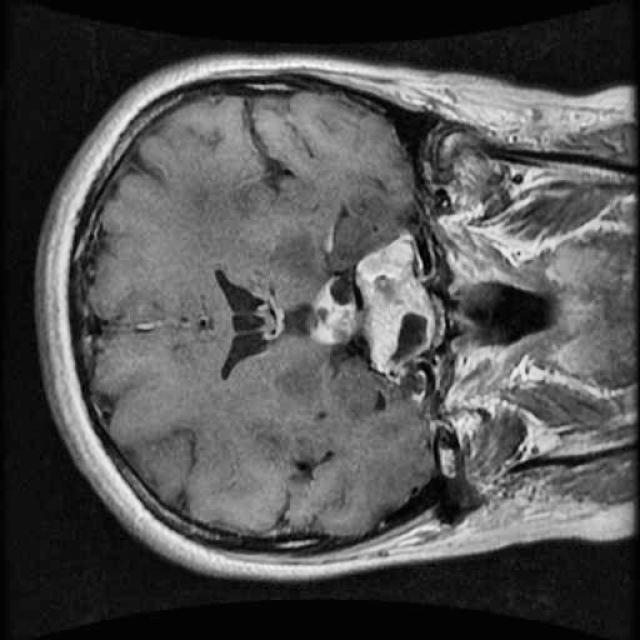Tumor: (296, 219, 460, 388)
